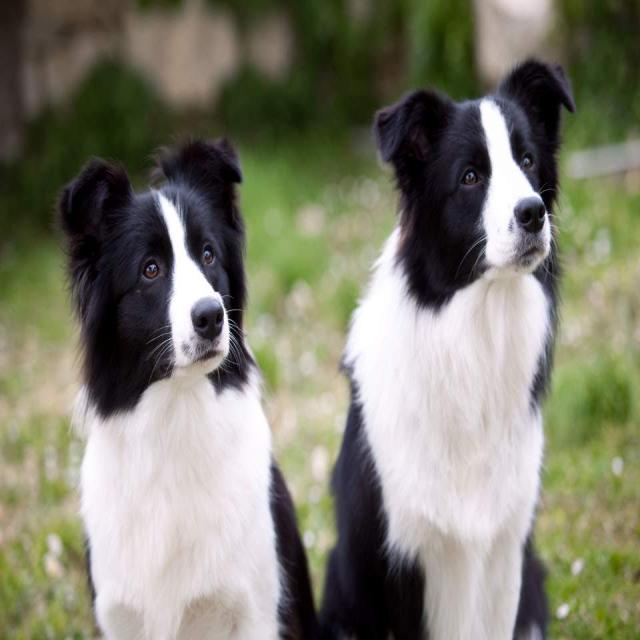BORDER_COLLIE: (294, 47, 586, 640), (49, 139, 315, 640)
